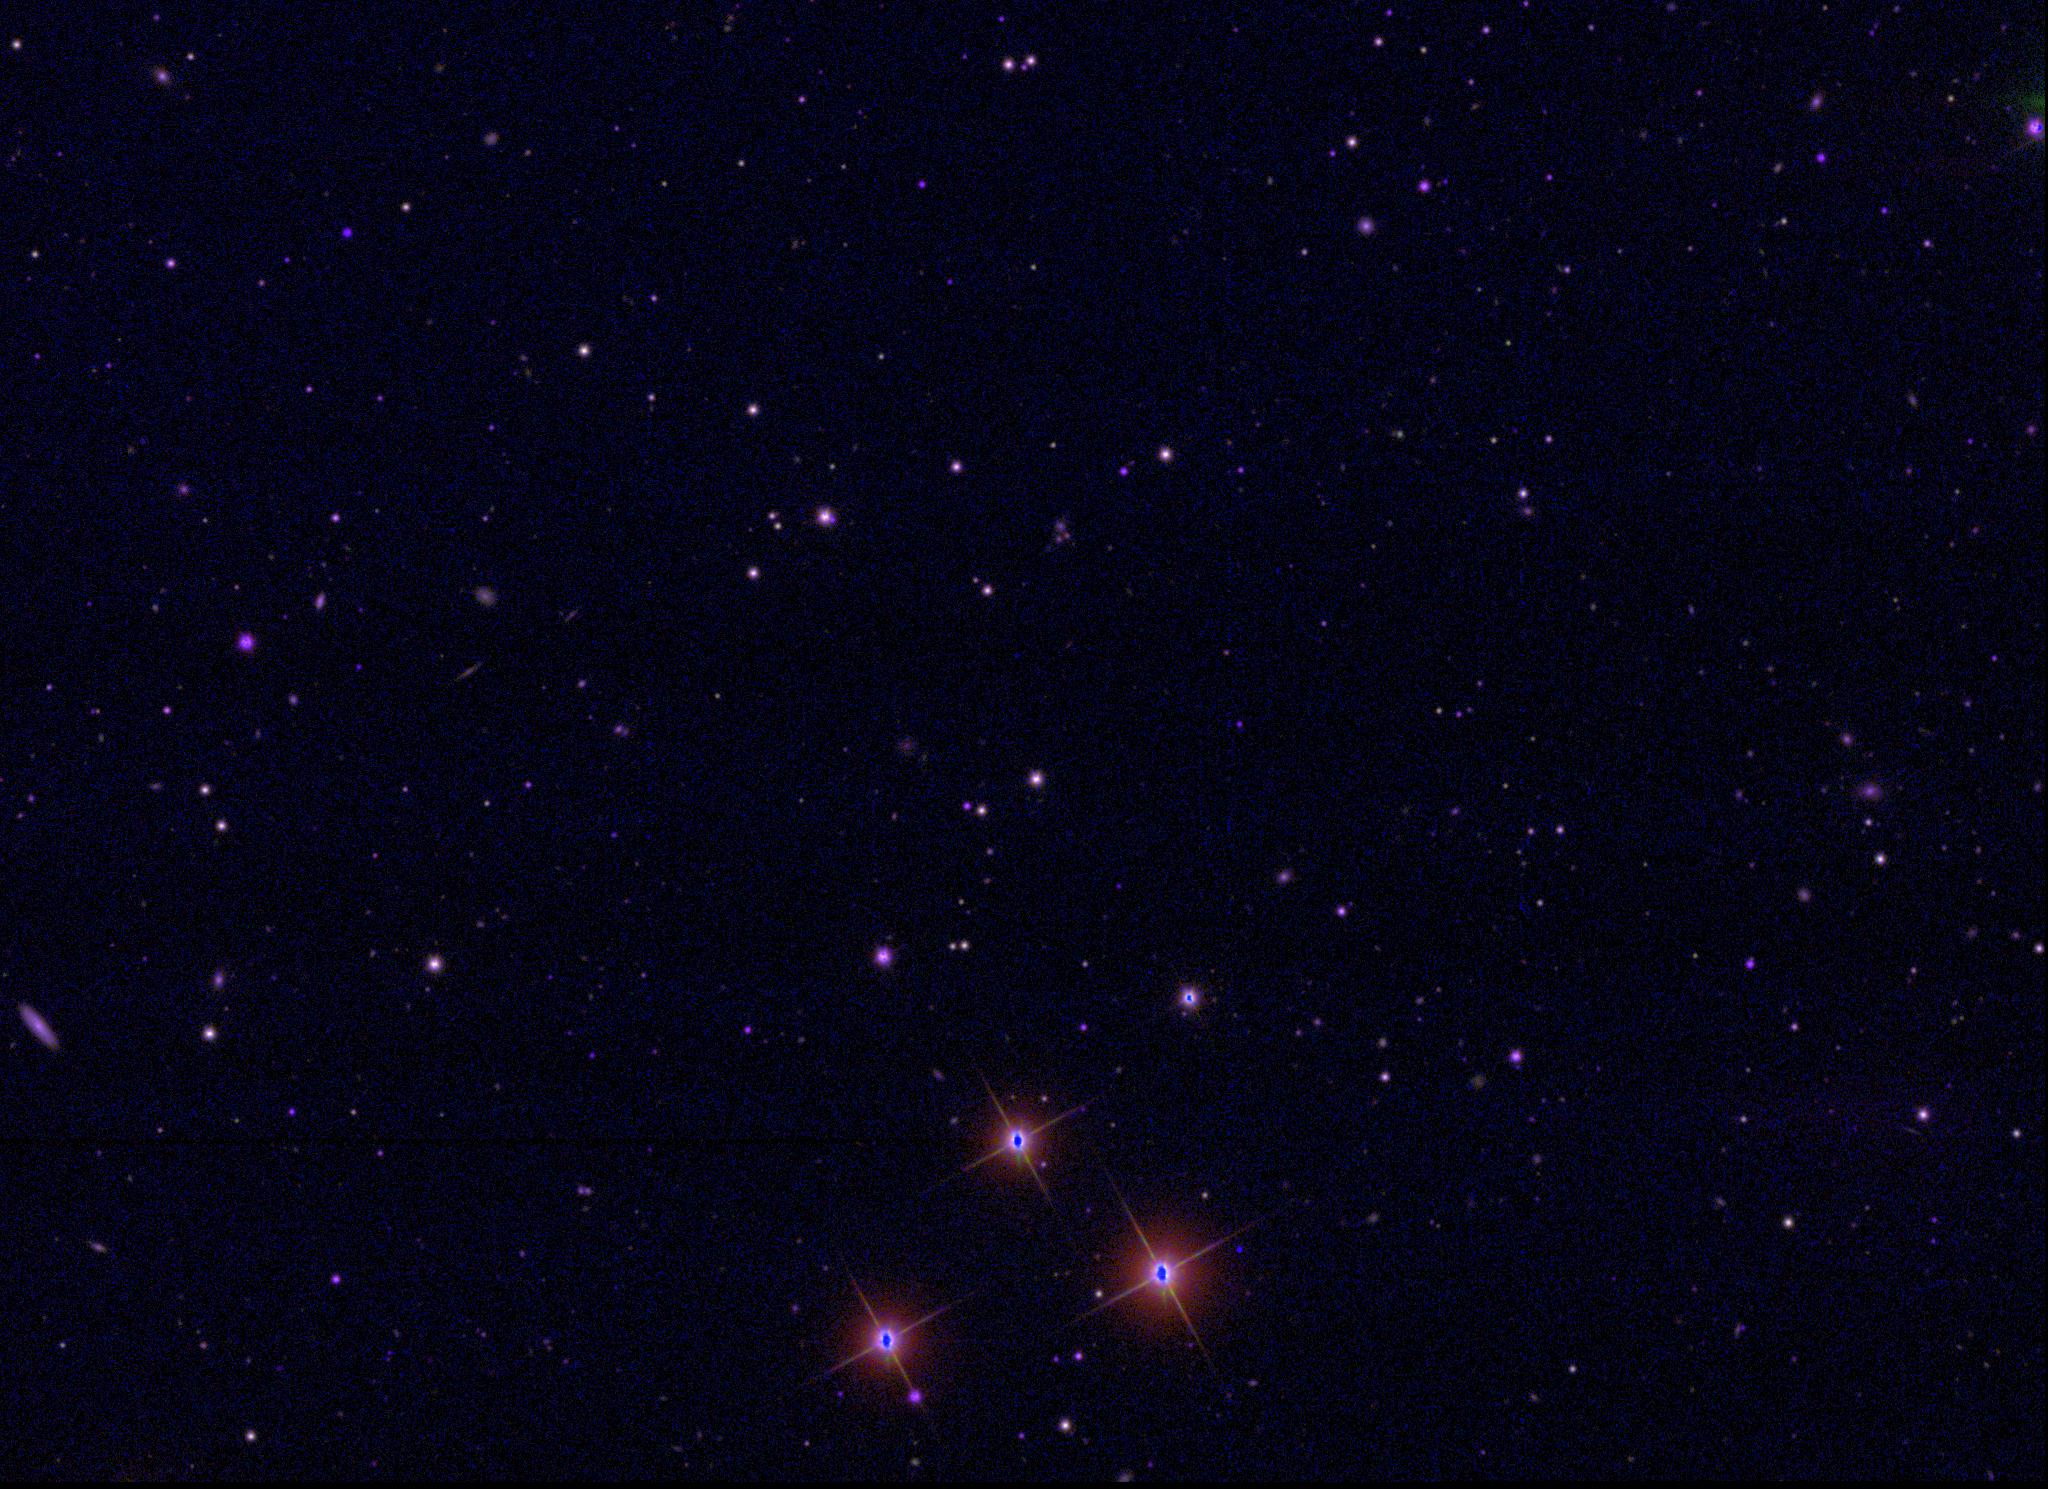L: (1234, 1242, 1248, 1257)
